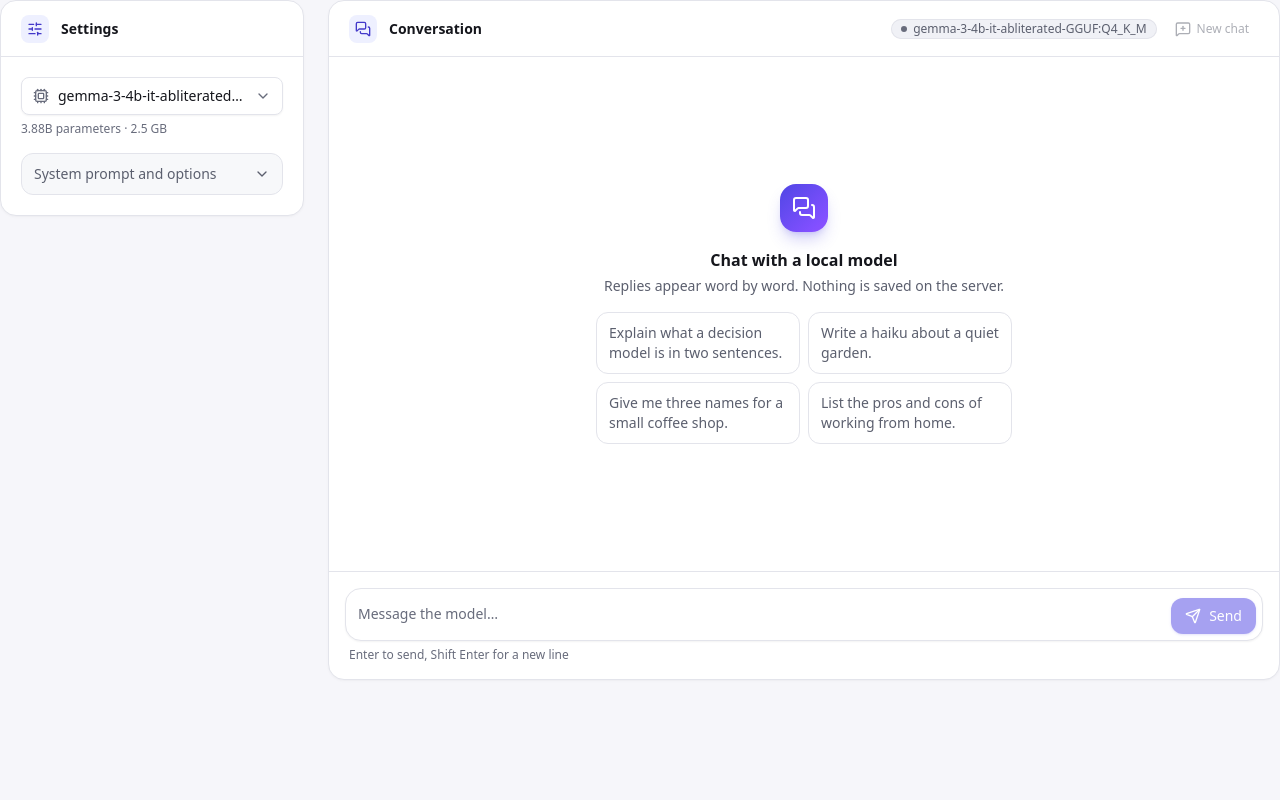
Scenario: ChatPage › shows an error from the model with its trace id, and Retry asks again
The width and height of the screenshot is (1280, 800).
Later steps or results of the test are not shown.
Expected: the dropdown named "Model" shows "gemma-3-4b-it-abliterated-GGUF:Q4_K_M", [21,77,283,115]
Type "Hi" into the text box labelled "Message" at x=761, y=615, box [358,595,1163,634]
Then press Enter
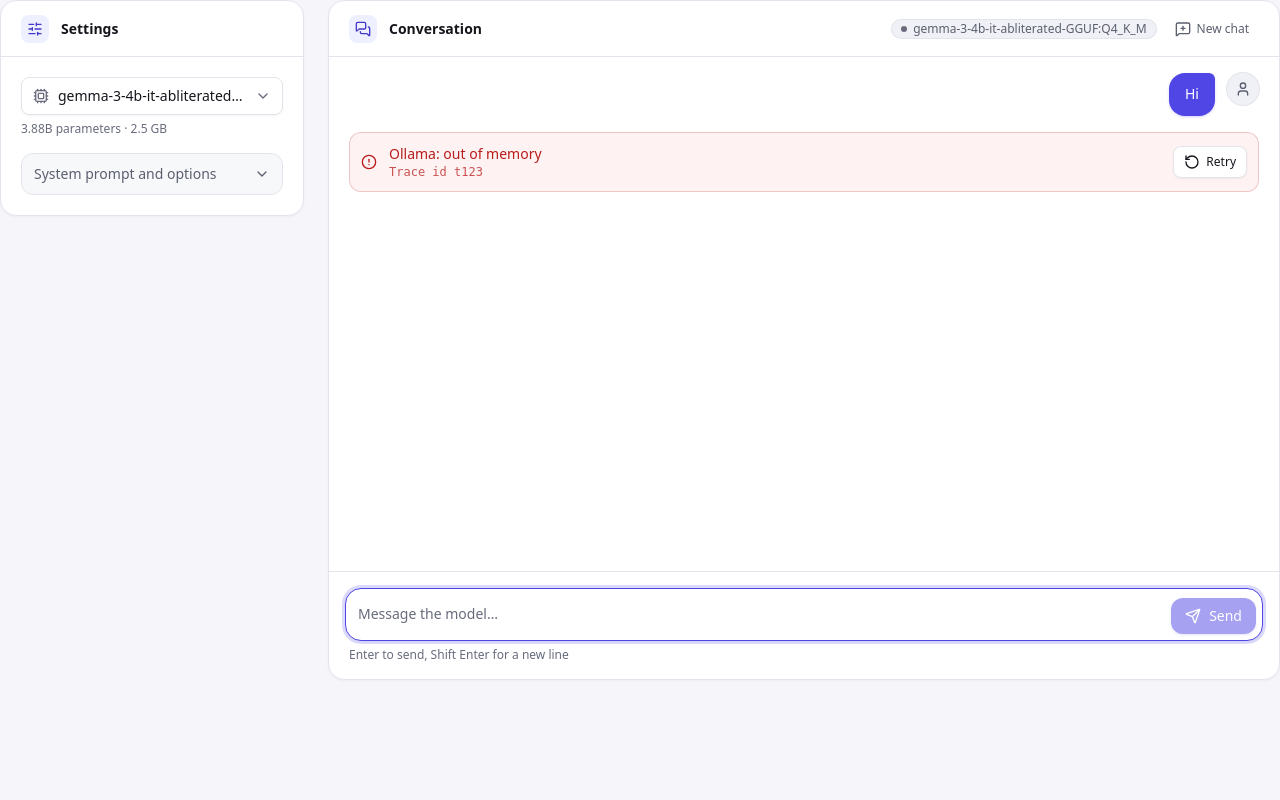
Result: the message shows "Ollama: out of memory" at [389,144,542,163]
Result: the message shows "Trace id t123" at [349,132,1259,192]
